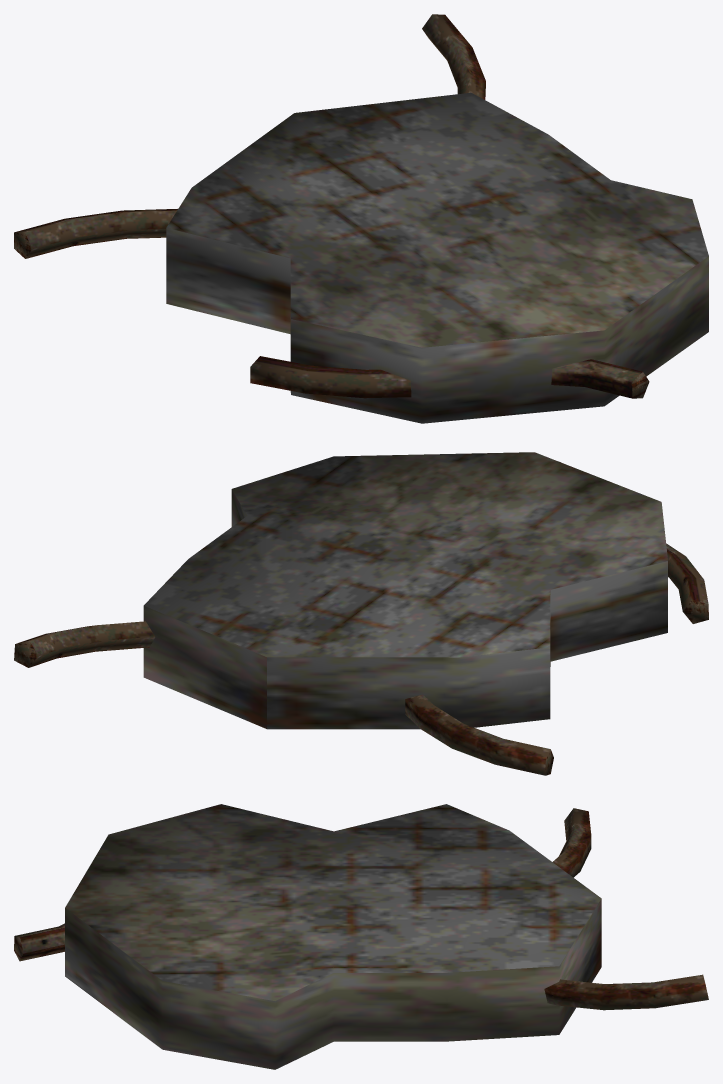
The model's file is b_wall_m.fbx.
The picture shows the model from 3 angles, top to bottom: view 1: azimuth 30°, elevation 25°; view 2: azimuth 150°, elevation 25°; view 3: azimuth 270°, elevation 25°; orthographic projection. The views are drawn at different scales.
Parts seen in each view (by area): view 1: Concrete_Debris_2; view 2: Concrete_Debris_2; view 3: Concrete_Debris_2.
Boxes of the visible parts, x1,y1,x2,y2 form: Concrete_Debris_2: [14, 14, 708, 423]; Concrete_Debris_2: [14, 452, 708, 775]; Concrete_Debris_2: [14, 804, 708, 1069].
Bounding box in the file's own units: 169 × 30.02 × 223.
